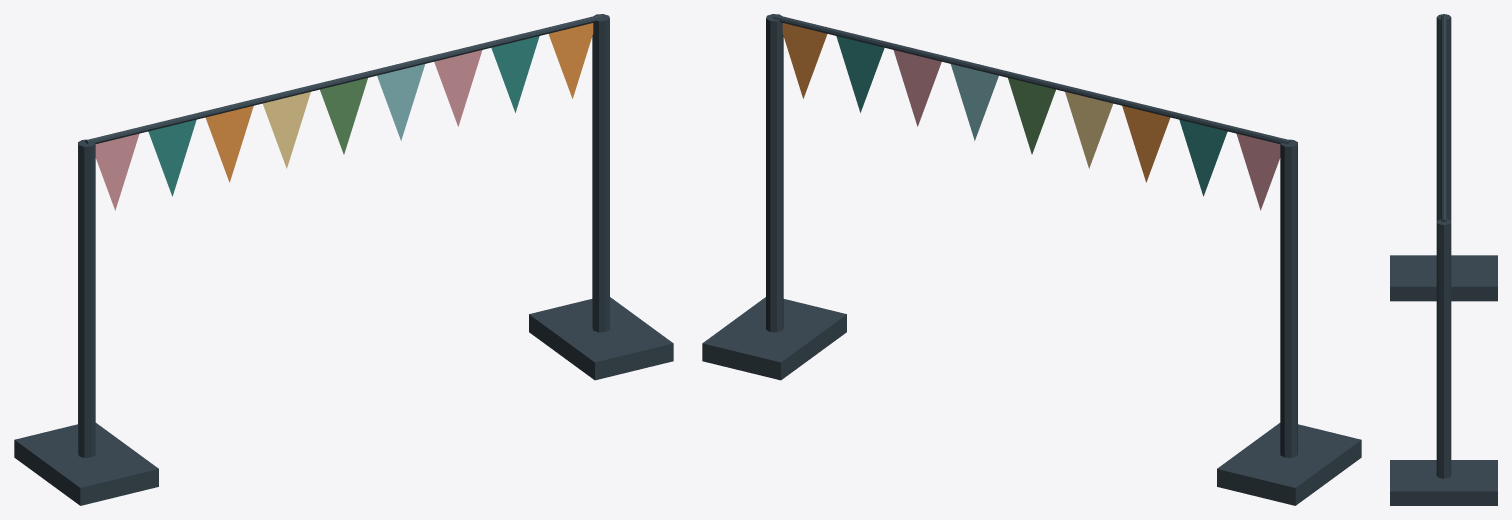
File: bunting_rainbow.glb
3 views of the same model, side by side, from view 1: azimuth 30°, elevation 25°; view 2: azimuth 150°, elevation 25°; view 3: azimuth 270°, elevation 25° (orthographic). The views are drawn at different scales.
Parts seen in each view (by area): view 1: foot, foot.001, post, post.001, cord, flag.002, flag.004, flag.001, flag.003, flag.005, flag.007, flag.006 (+2 smaller); view 2: foot, foot.001, post, post.001, cord, flag.002, flag.004, flag.001, flag.003, flag.005, flag.007, flag.006 (+2 smaller); view 3: foot.001, foot, post.001, post, cord.
Part boxes in pixels (left/top/right/bottom): foot: left=14, top=423, right=158, bottom=505; foot.001: left=529, top=297, right=673, bottom=380; post: left=78, top=139, right=95, bottom=457; post.001: left=592, top=14, right=609, bottom=332; cord: left=85, top=14, right=602, bottom=144; flag.002: left=205, top=105, right=253, bottom=182; flag.004: left=320, top=78, right=367, bottom=154; flag.001: left=148, top=119, right=196, bottom=196; flag.003: left=263, top=92, right=310, bottom=168; flag.005: left=377, top=64, right=425, bottom=140; flag.007: left=491, top=36, right=539, bottom=112; flag.006: left=434, top=50, right=482, bottom=126; foot: left=1217, top=423, right=1361, bottom=505; foot.001: left=702, top=297, right=846, bottom=380; post: left=1280, top=139, right=1297, bottom=457; post.001: left=766, top=14, right=783, bottom=332; cord: left=773, top=14, right=1290, bottom=144; flag.002: left=1122, top=105, right=1170, bottom=182; flag.004: left=1008, top=78, right=1055, bottom=154; flag.001: left=1179, top=119, right=1227, bottom=196; flag.003: left=1065, top=92, right=1112, bottom=168; flag.005: left=950, top=64, right=998, bottom=140; flag.007: left=836, top=36, right=884, bottom=112; flag.006: left=893, top=50, right=941, bottom=126; foot.001: left=1390, top=460, right=1497, bottom=505; foot: left=1390, top=255, right=1497, bottom=301; post.001: left=1436, top=219, right=1451, bottom=478; post: left=1436, top=14, right=1451, bottom=221; cord: left=1441, top=15, right=1446, bottom=221.
Bounding box in the file's own units: 4.15 × 2.22 × 0.8.
